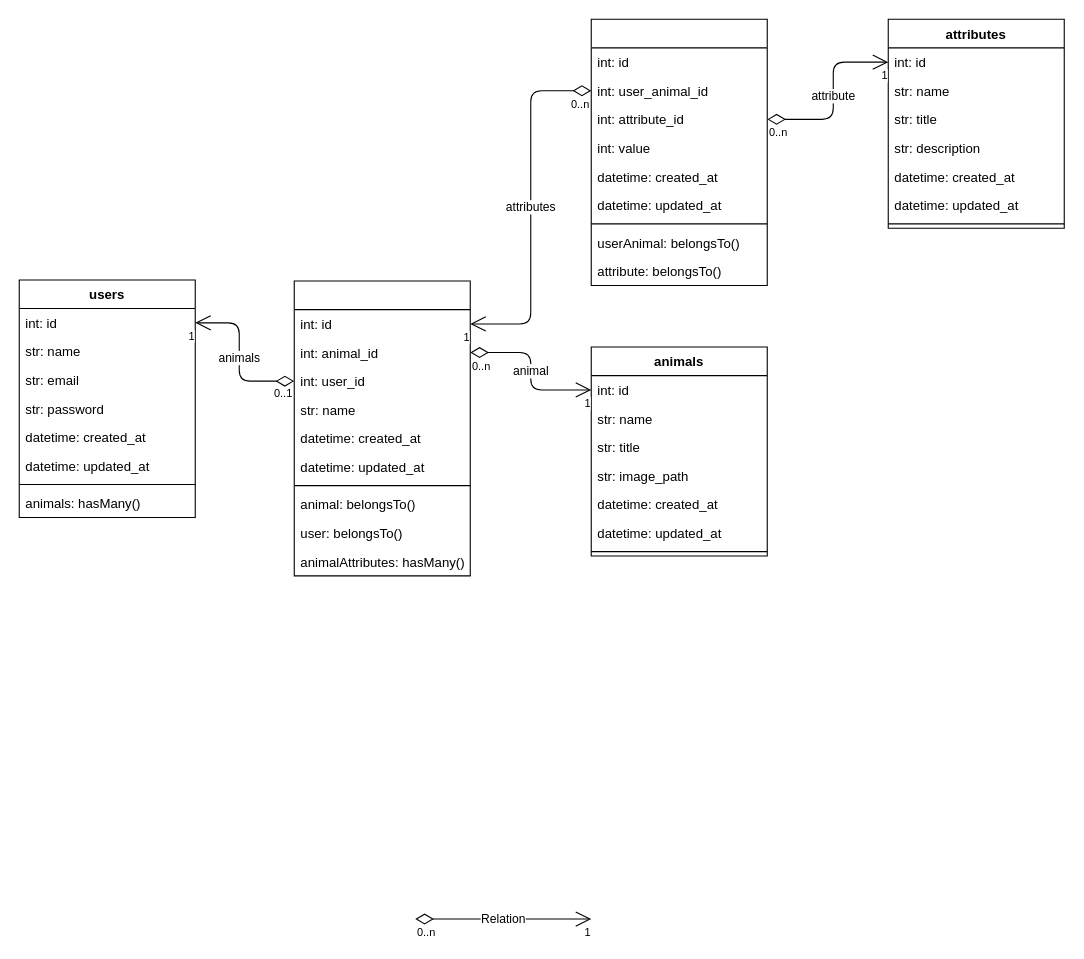
Some shapes in this 1084 by 959 pixel diagram are drawn without their labels. Each missing label, with the box of its shape:
user_animal_attributes: (590, 18, 767, 285)
user_animals: (293, 280, 470, 576)
